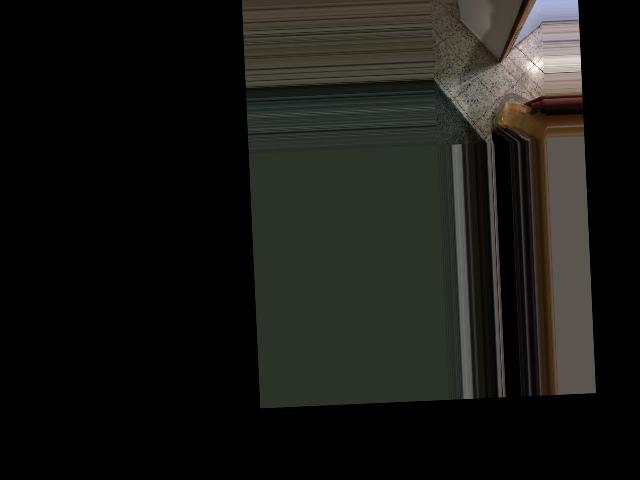cheese: (491, 92, 548, 143)
